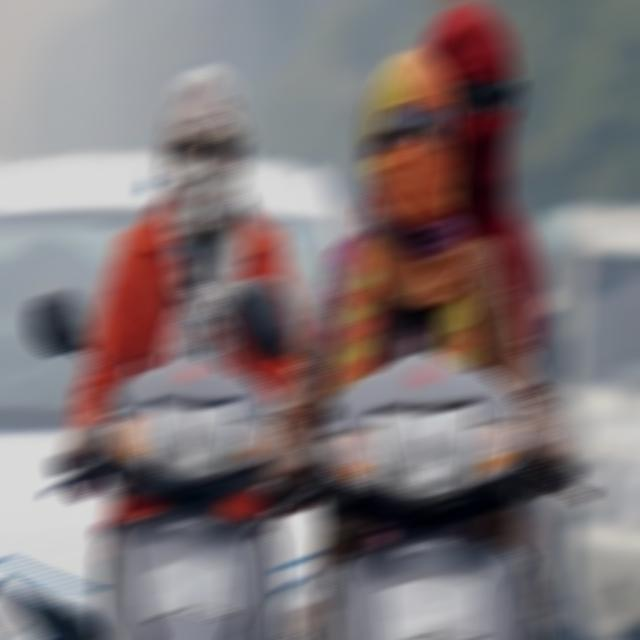Without Helmet: (362, 42, 468, 242), (157, 56, 254, 235)
